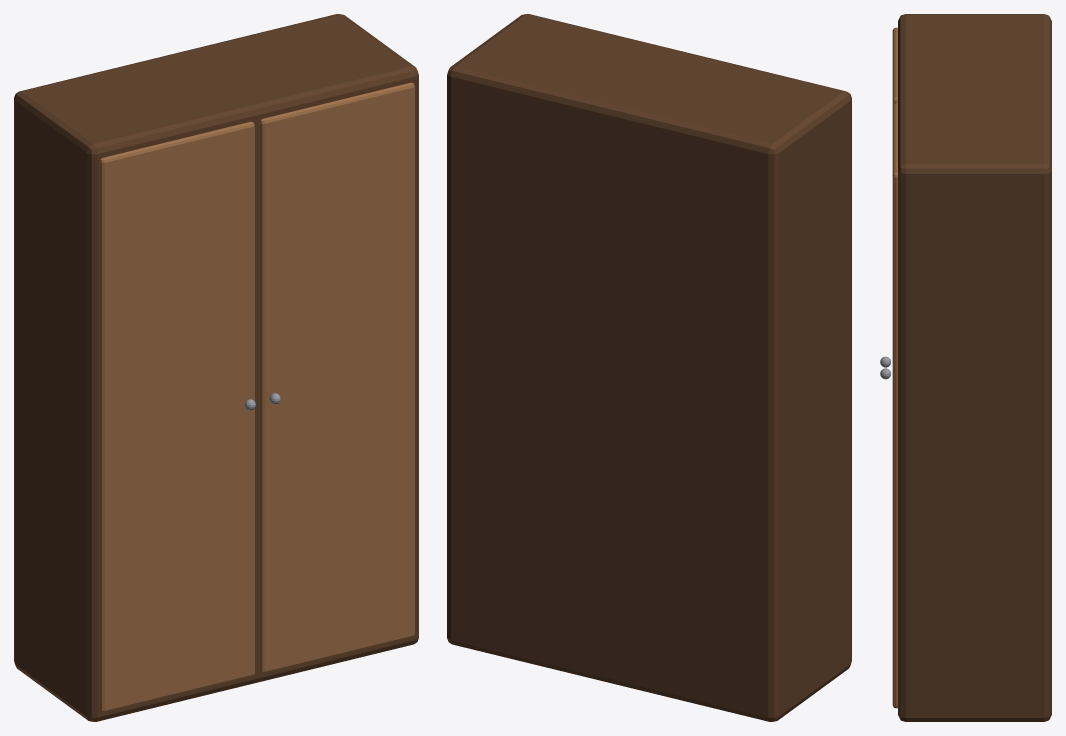
File: cupboard_wooden.glb
The picture shows the model from 3 angles, left to right: view 1: azimuth 30°, elevation 25°; view 2: azimuth 150°, elevation 25°; view 3: azimuth 270°, elevation 25°; orthographic projection. The views are drawn at different scales.
Visible parts, largest first — view 1: cupboard_wooden; view 2: cupboard_wooden; view 3: cupboard_wooden.
Boxes of the visible parts, left/top/right/bottom form: cupboard_wooden: left=14, top=14, right=418, bottom=721; cupboard_wooden: left=447, top=14, right=851, bottom=721; cupboard_wooden: left=880, top=14, right=1051, bottom=721.
Size of the model in its own units: 1.2 by 2 by 0.558.
